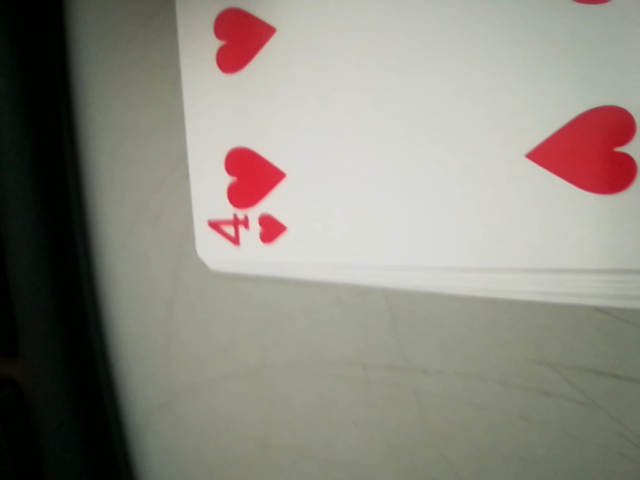hx 4: (204, 203, 289, 263)
